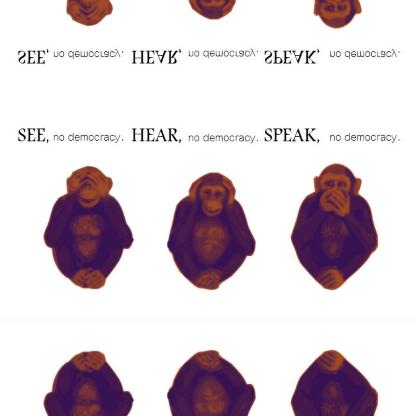Monkey: (42, 156, 136, 288), (167, 169, 266, 289), (290, 160, 380, 290), (166, 350, 266, 415), (289, 348, 381, 415), (42, 351, 137, 415), (42, 0, 137, 34), (289, 0, 381, 31)
